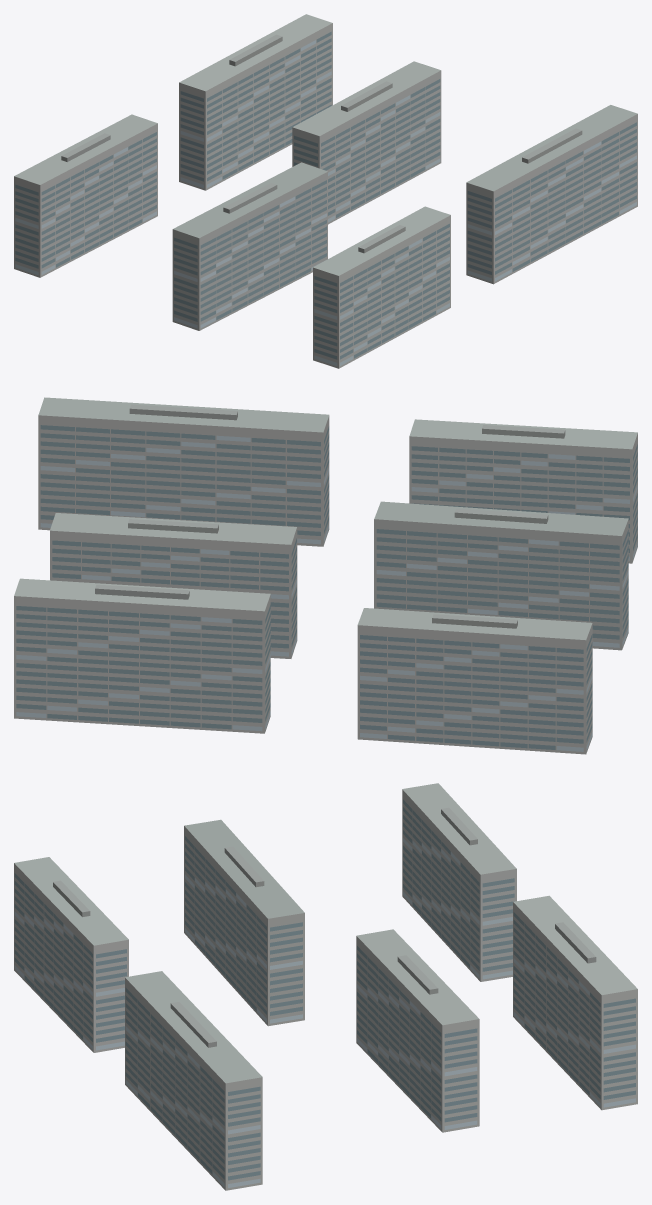
Rendered from apt-a13599402.glb.
3 renders of one model, top to bottom at view 1: azimuth 30°, elevation 25°; view 2: azimuth 150°, elevation 25°; view 3: azimuth 270°, elevation 25°, orthographic. The views are drawn at different scales.
Visible parts, largest first — view 1: apt-a13599402; view 2: apt-a13599402; view 3: apt-a13599402.
Part boxes in pixels (box(x1,y1,x2,y2)): apt-a13599402: box(14, 14, 637, 368); apt-a13599402: box(14, 397, 637, 754); apt-a13599402: box(14, 783, 637, 1190).
Size of the model in its own units: 256 by 47.81 by 225.
